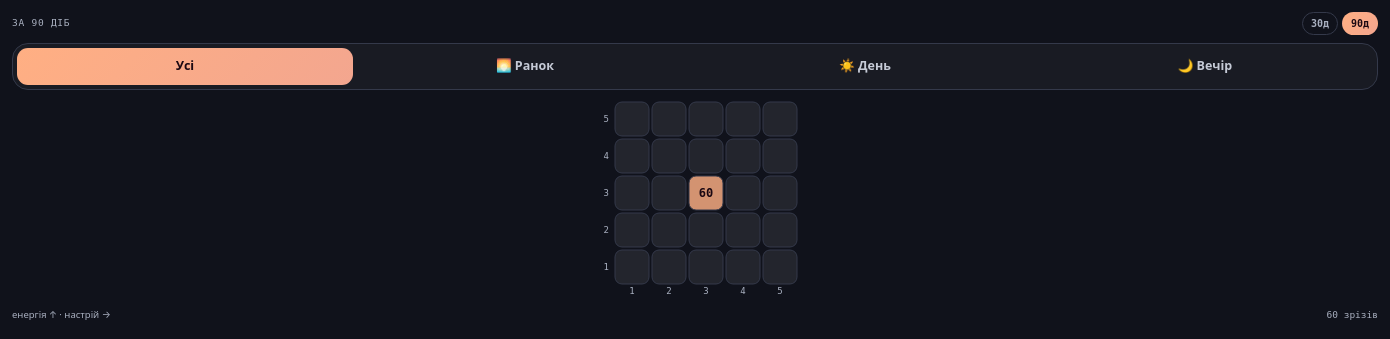
Test: StateMatrix — фільтр періоду › вужчий період справді відрізає дані, а не лише підпис
Click the button "30д": click(1320, 24) [1302,12,1338,35]
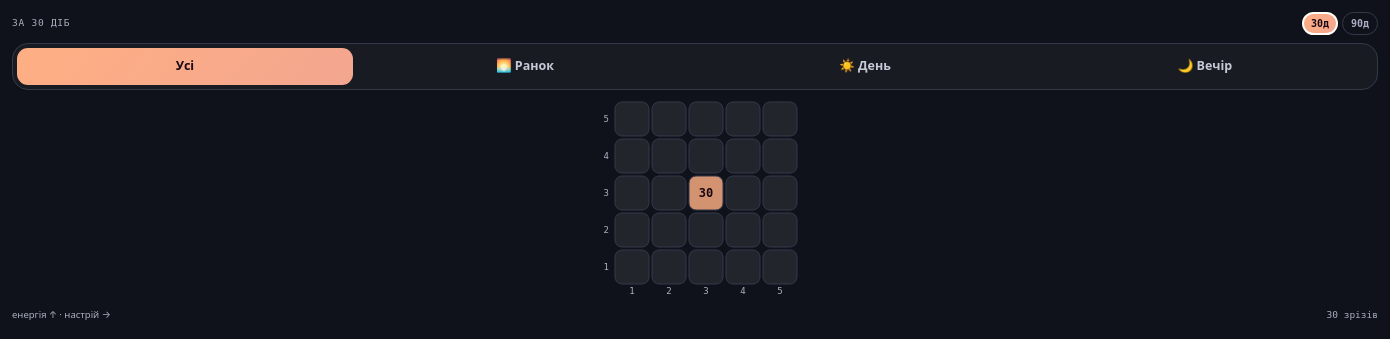
Now the text "30 зрізів" is shown, box [1326,308,1378,322]
Now the text "ЗА 30 ДІБ" is shown, box [12,16,70,31]
